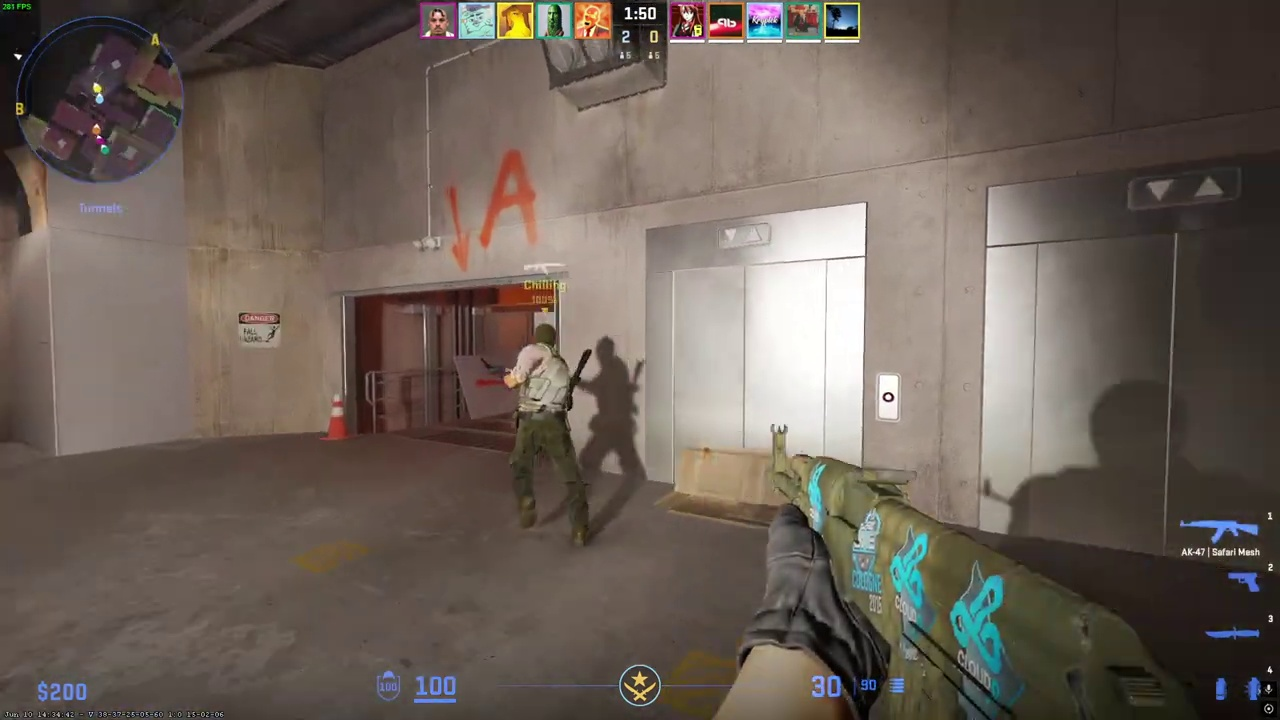Terrorist: (504, 322, 590, 546)
